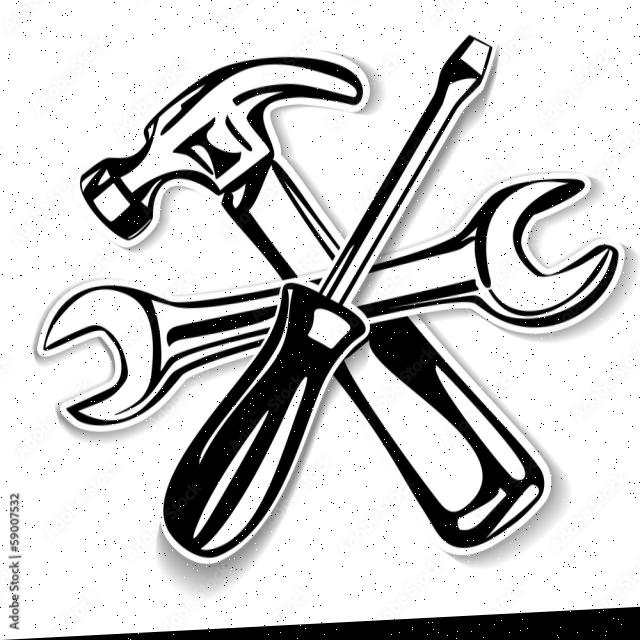Screwdriver: (162, 42, 492, 564)
